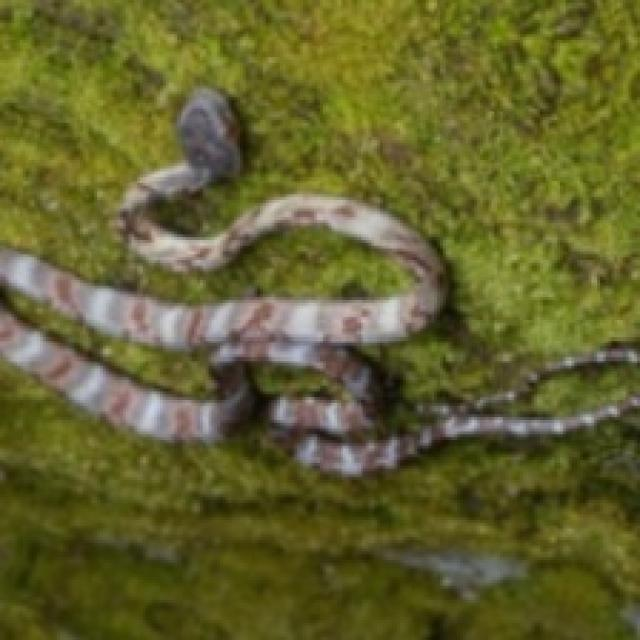dog-toothed cat snake: (0, 89, 637, 474)
